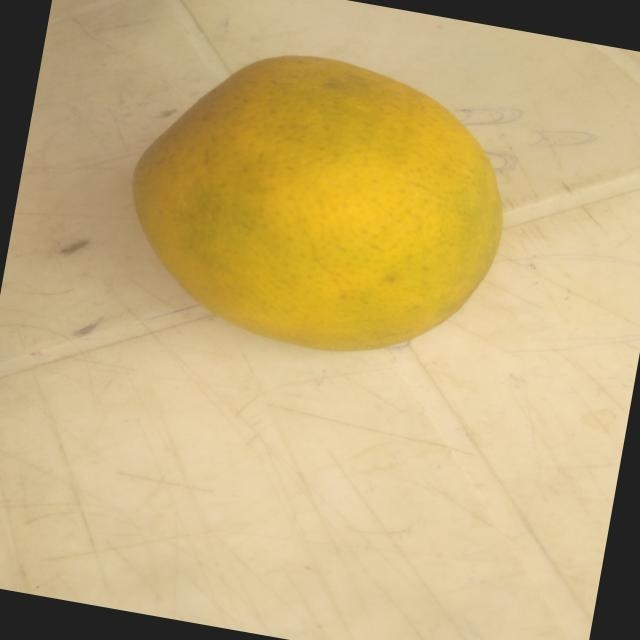agrume: (83, 16, 548, 402)
